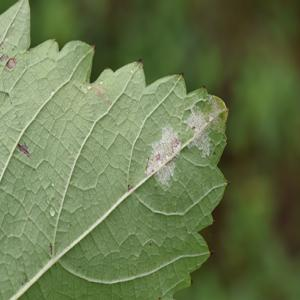Folha: (0, 0, 234, 299)
Fungo: (145, 125, 181, 186), (186, 104, 212, 158), (210, 99, 229, 143), (86, 80, 110, 102), (0, 52, 18, 72), (16, 141, 30, 157), (6, 56, 17, 69), (123, 183, 134, 195), (132, 56, 142, 68), (21, 272, 27, 285), (49, 206, 55, 217), (0, 54, 8, 62), (127, 183, 134, 191), (49, 241, 52, 255), (156, 152, 160, 160), (179, 72, 184, 76)
